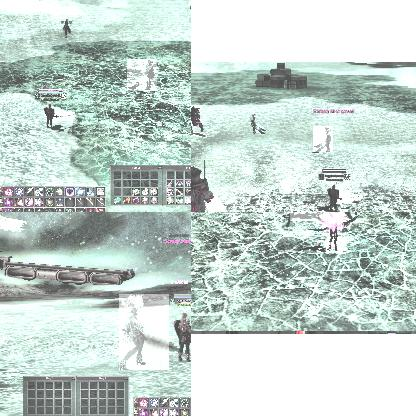caliana: (119, 294, 169, 370), (127, 59, 157, 91), (313, 126, 333, 152), (248, 113, 266, 133), (290, 212, 322, 221), (60, 17, 72, 37)
